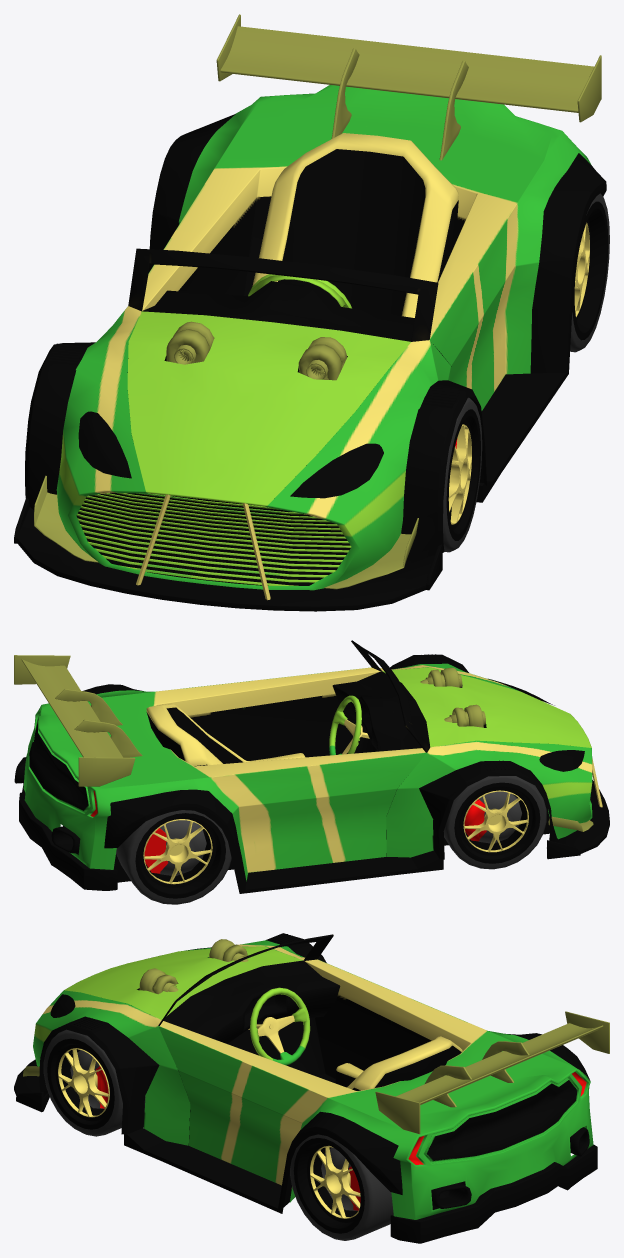
Rendered from Timun_CarScalePose.fbx.
3 views of the same model, one above another, from view 1: azimuth 30°, elevation 25°; view 2: azimuth 150°, elevation 25°; view 3: azimuth 270°, elevation 25° (orthographic). The views are drawn at different scales.
Parts seen in each view (by area): view 1: hood.001; view 2: hood.001; view 3: hood.001.
Boxes of the visible parts, x1=… form: hood.001: x1=14, y1=14, x2=609, y2=611; hood.001: x1=14, y1=640, x2=609, y2=904; hood.001: x1=14, y1=933, x2=609, y2=1243.
Size of the model in its own units: 2812 by 2812 by 848.
